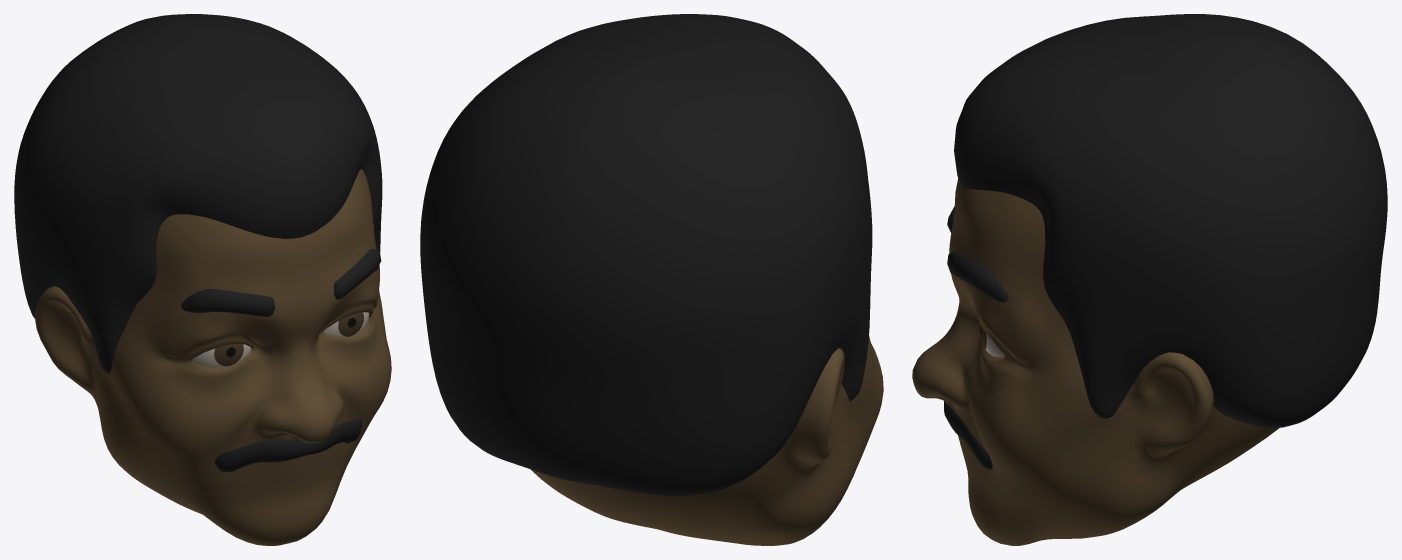
File: head.fbx
The picture shows the model from 3 angles, left to right: view 1: azimuth 30°, elevation 25°; view 2: azimuth 150°, elevation 25°; view 3: azimuth 270°, elevation 25°; orthographic projection. The views are drawn at different scales.
Visible parts, largest first — view 1: Head; view 2: Head; view 3: Head.
Boxes of the visible parts, <box> form: Head: <box>14,14,391,545</box>; Head: <box>420,14,883,545</box>; Head: <box>912,14,1387,545</box>.
Bounding box in the file's own units: 29.49 × 39.78 × 34.34.
Materials: 1 (1 with a texture image).
